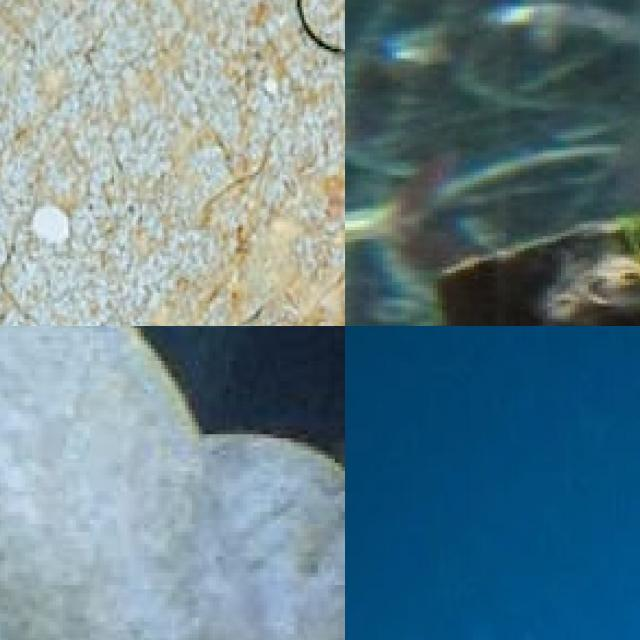fish: (0, 0, 345, 326), (345, 571, 640, 640), (345, 150, 405, 303)
